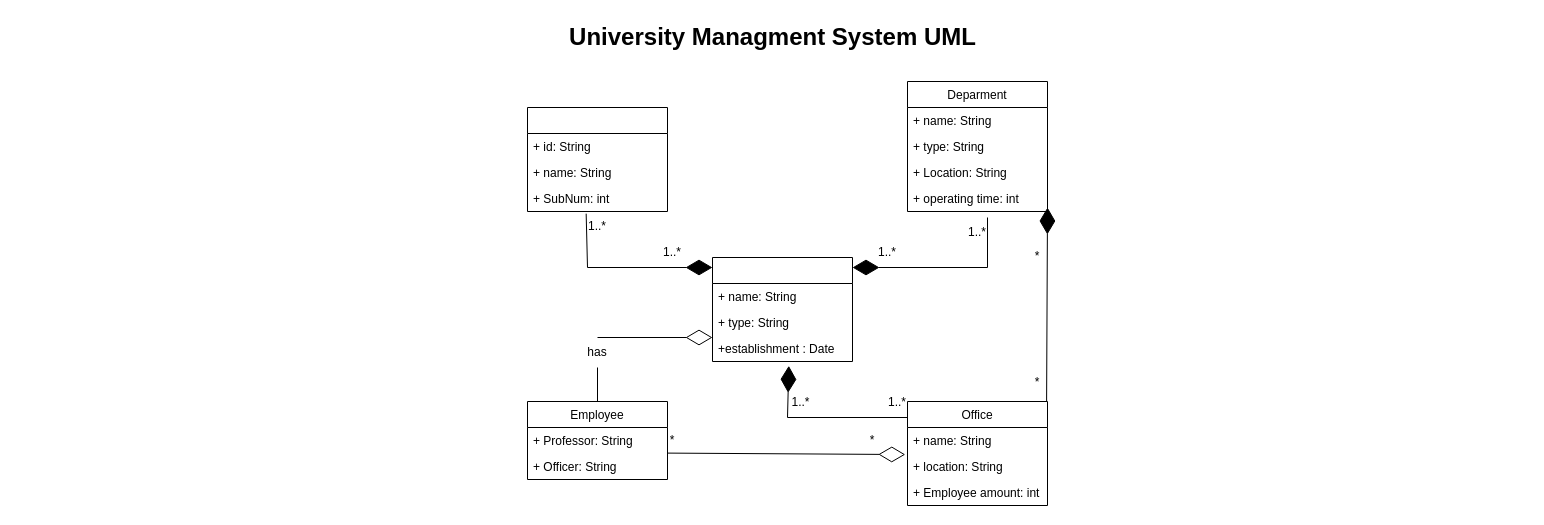
This 1544x525 diagram has some shape labels left out. Each missing label, with the box of its shape:
Classroom: (526, 106, 668, 212)
University: (712, 256, 852, 362)
